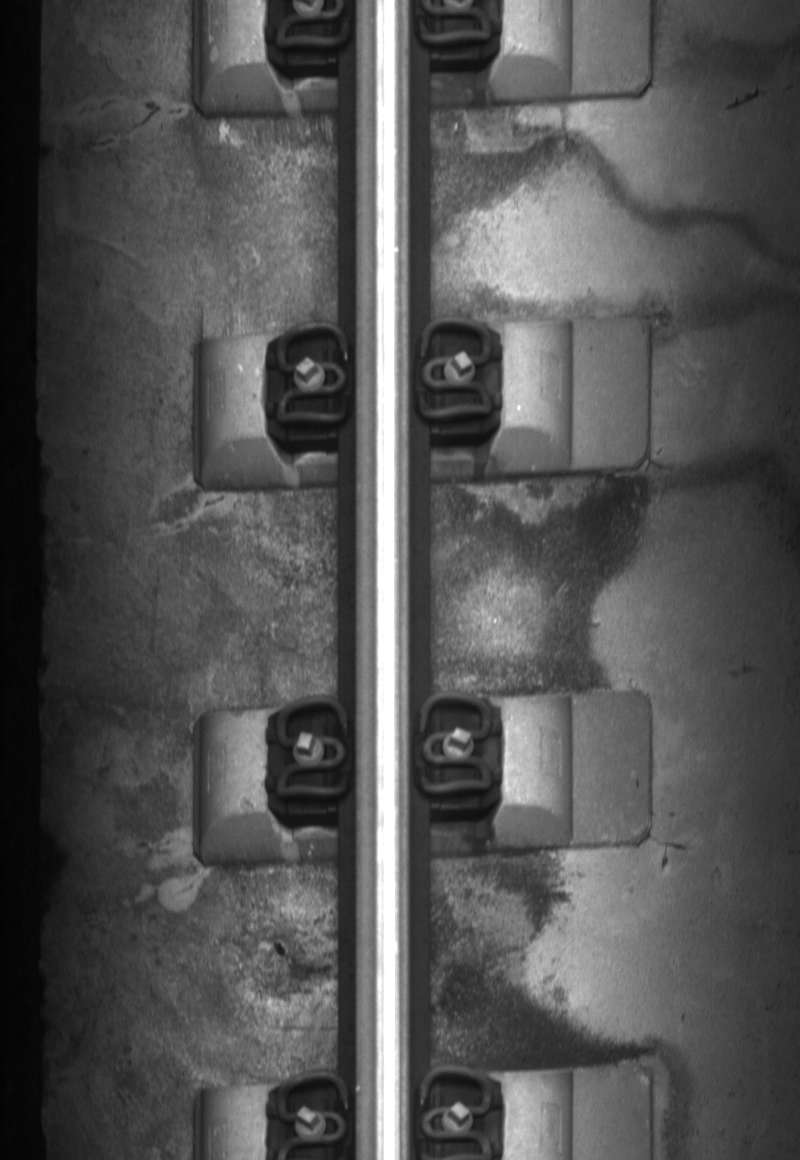l_faster: (270, 319, 354, 436), (271, 691, 354, 808)
r_faster: (413, 686, 497, 802), (416, 315, 495, 422)
